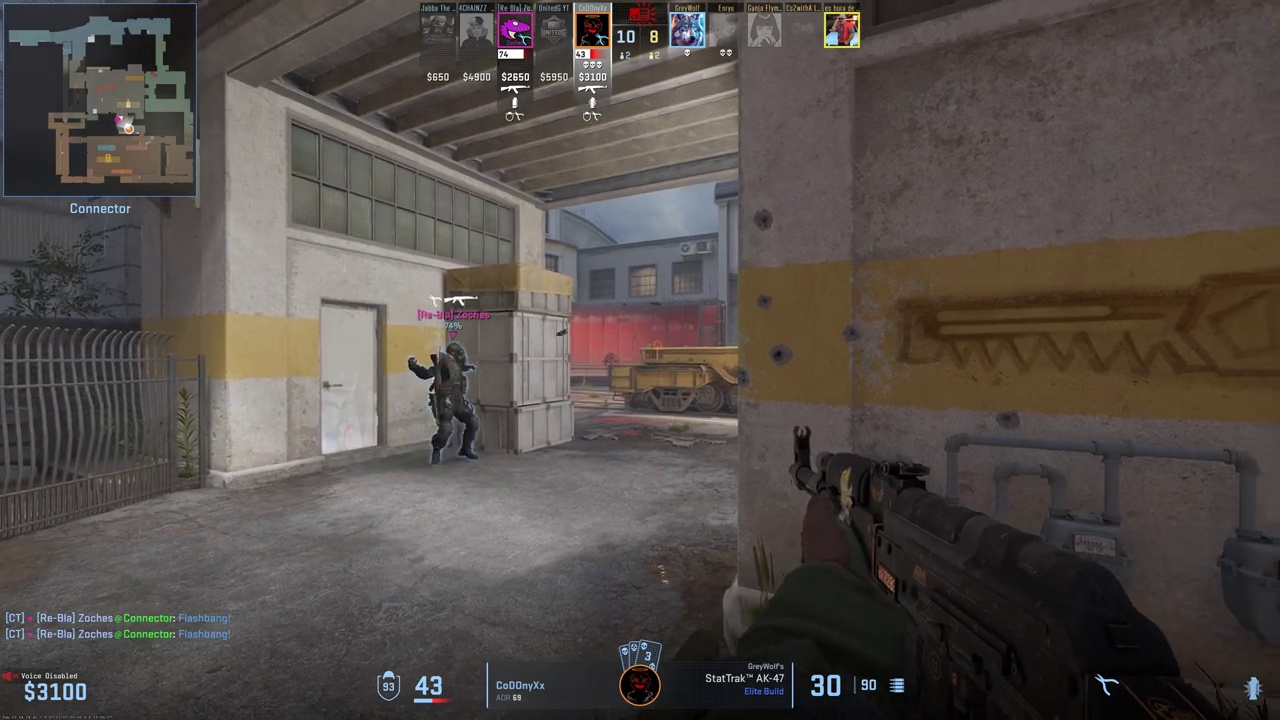CT: (431, 342, 478, 463)
